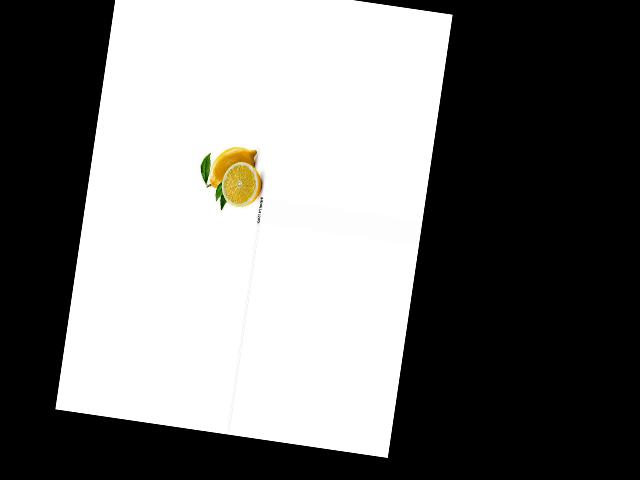lemon: (205, 135, 260, 196)
